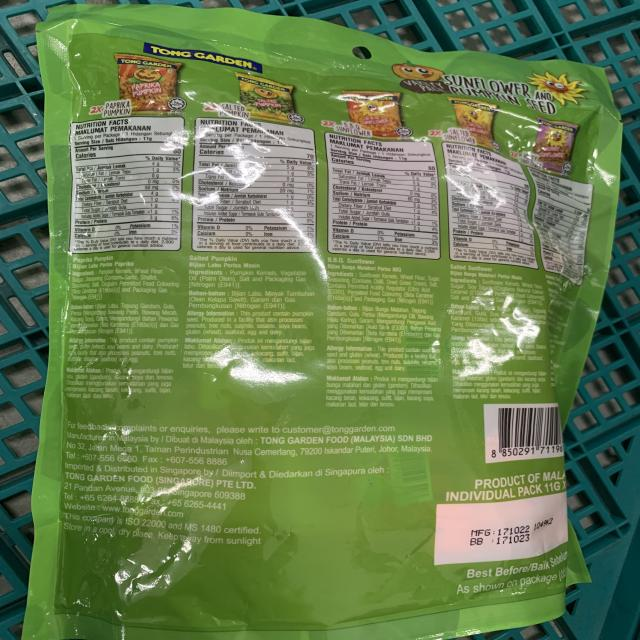object_name: (51, 15, 565, 638)
